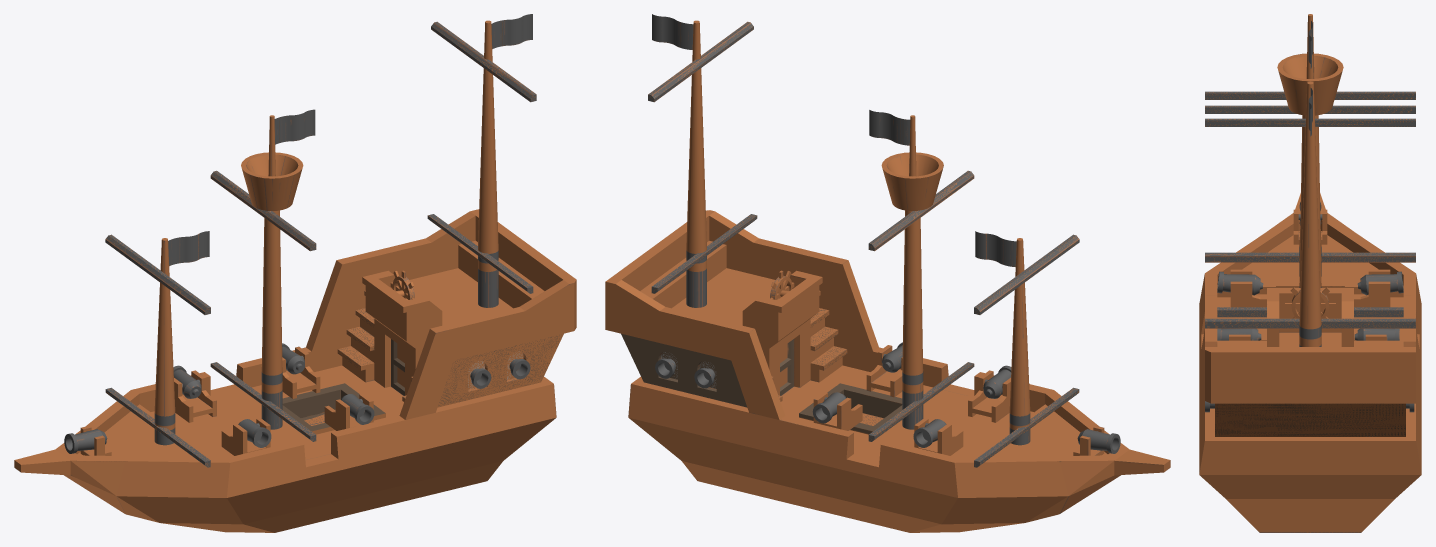
The model's file is ship.glb.
The picture shows the model from 3 angles, left to right: view 1: azimuth 30°, elevation 25°; view 2: azimuth 150°, elevation 25°; view 3: azimuth 270°, elevation 25°; orthographic projection. The views are drawn at different scales.
Visible parts, largest first — view 1: SHIP; view 2: SHIP; view 3: SHIP.
Boxes of the visible parts, box(x1,y1,x2,y2) form: SHIP: box(14, 14, 576, 532); SHIP: box(605, 14, 1170, 532); SHIP: box(1199, 14, 1421, 532).
Size of the model in its own units: 8.1 by 6.55 by 2.85.
1 material, 1 textured.
